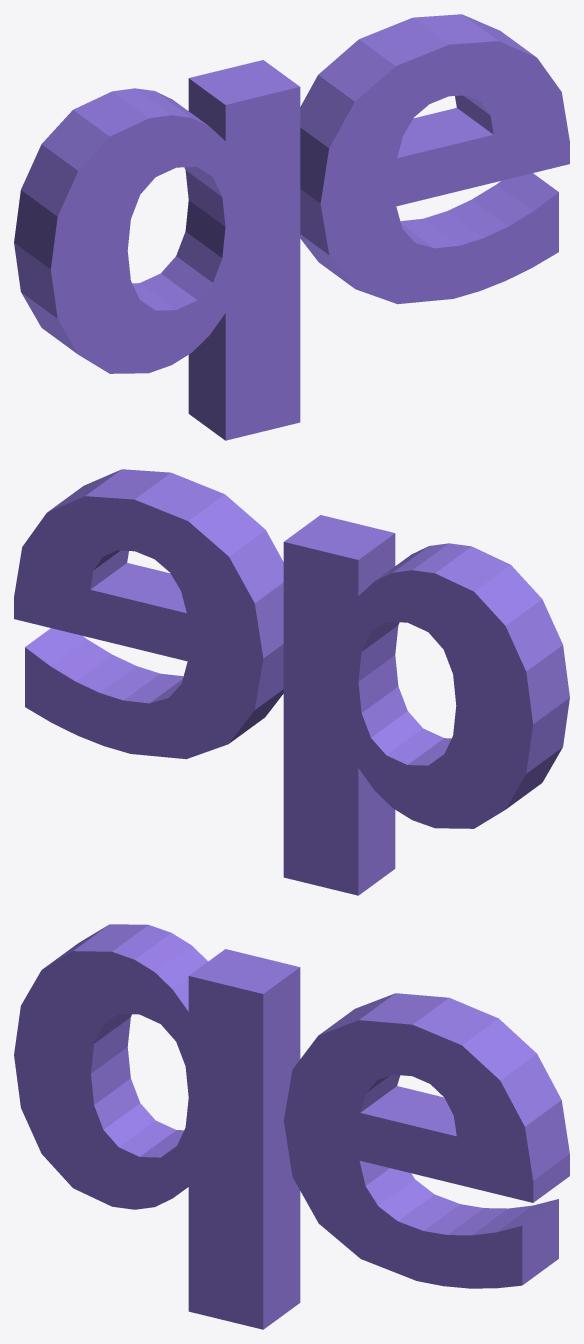
File: suku_kecil_qe.glb
3 views of the same model, one above another, from view 1: azimuth 30°, elevation 25°; view 2: azimuth 150°, elevation 25°; view 3: azimuth 330°, elevation 25° (orthographic).
Parts seen in each view (by area): view 1: geometry_0; view 2: geometry_0; view 3: geometry_0.
Part boxes in pixels (x1,y1,x2,y2): geometry_0: [14, 14, 569, 440]; geometry_0: [14, 469, 569, 895]; geometry_0: [14, 924, 569, 1329].
Size of the model in its own units: 12.22 by 7.68 by 1.5.
